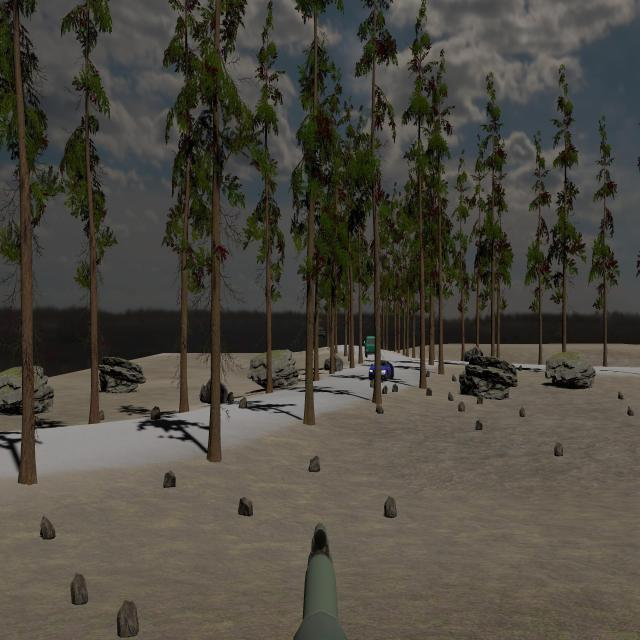car: (368, 359, 395, 381)
